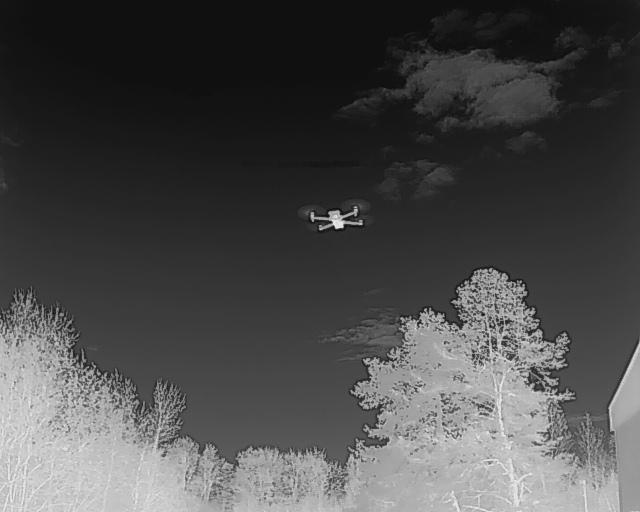drone: (305, 199, 370, 239)
